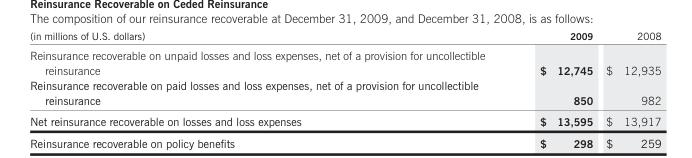table: (29, 28, 660, 127)
table column: (29, 28, 511, 127), (511, 28, 598, 127), (598, 28, 660, 127)
table column header: (29, 28, 660, 44)
table row: (29, 44, 660, 77), (29, 77, 660, 110), (29, 110, 660, 127), (29, 28, 660, 44)
